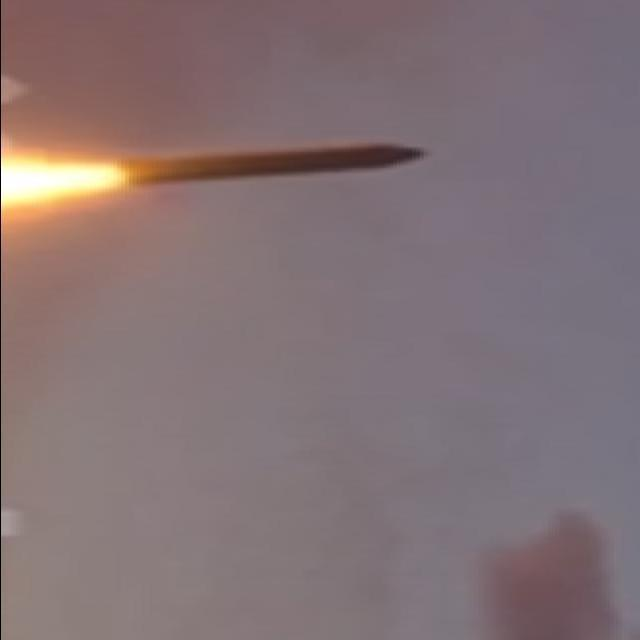missile: (100, 134, 427, 196)
